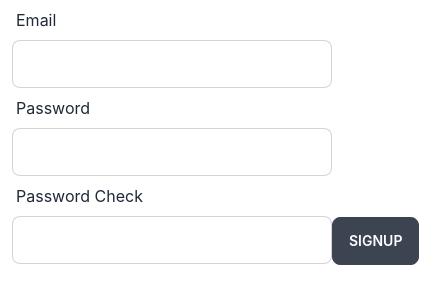
Test: Signup › email field should show error message if › clicked and not a valid email string
Click the field labelled "Email".
click(172, 64)  # box [12,40,332,88]
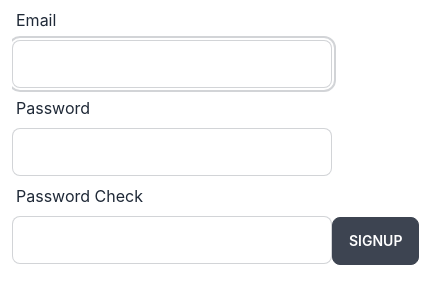
Type keys "howdy"
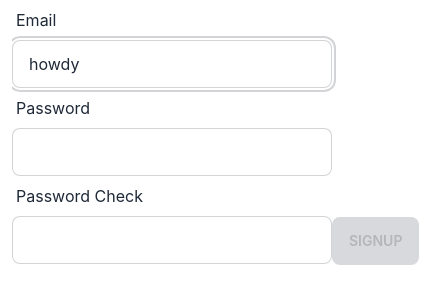
Click the field labelled "Password".
click(172, 152)  # box [12,128,332,176]
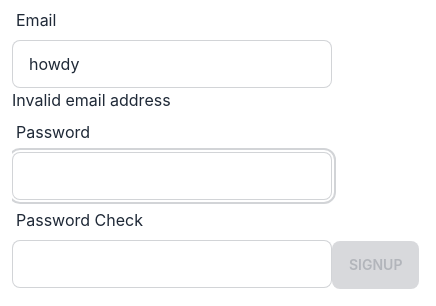
Expected: the text "Invalid email address" is shown, [12,90,171,110]
